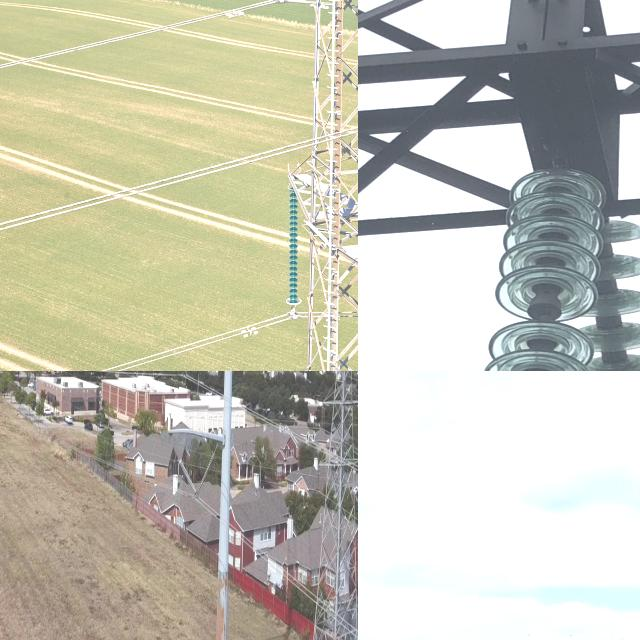杆塔: (297, 371, 358, 640), (317, 0, 358, 371)
正常电缆: (0, 129, 295, 244), (0, 0, 267, 84), (45, 302, 281, 371)
正常绝缘子: (464, 163, 605, 371), (576, 208, 640, 371), (286, 180, 301, 314), (194, 452, 215, 500), (177, 456, 199, 498)
绝缘子破损: (524, 298, 567, 317)
